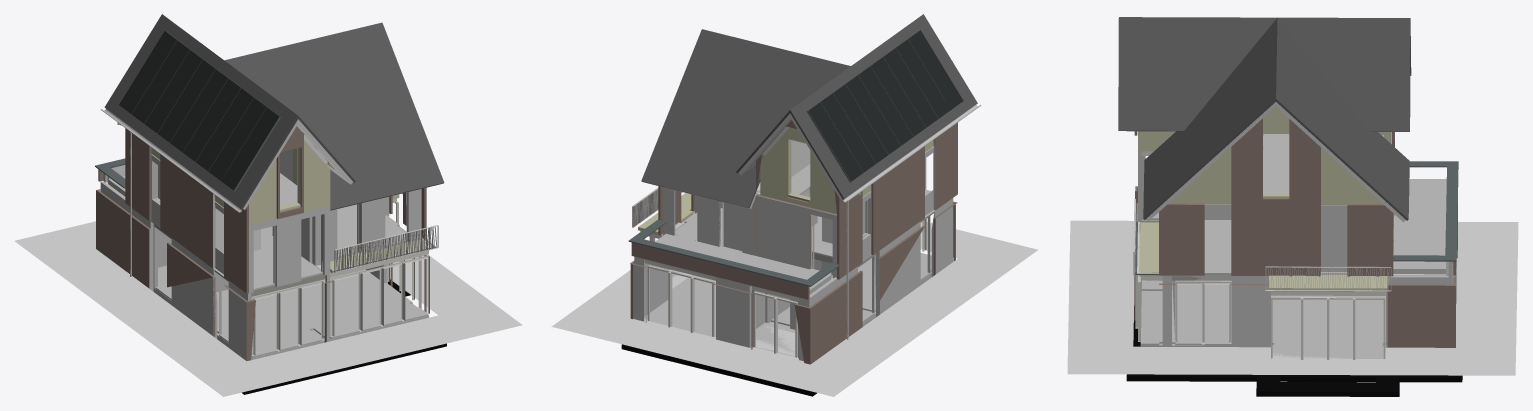
3 renders of one model, left to right at view 1: azimuth 30°, elevation 25°; view 2: azimuth 150°, elevation 25°; view 3: azimuth 270°, elevation 25°, orthographic. The views are drawn at different scales.
Bounding box in the file's own units: 14.04 × 12.06 × 17.25.
